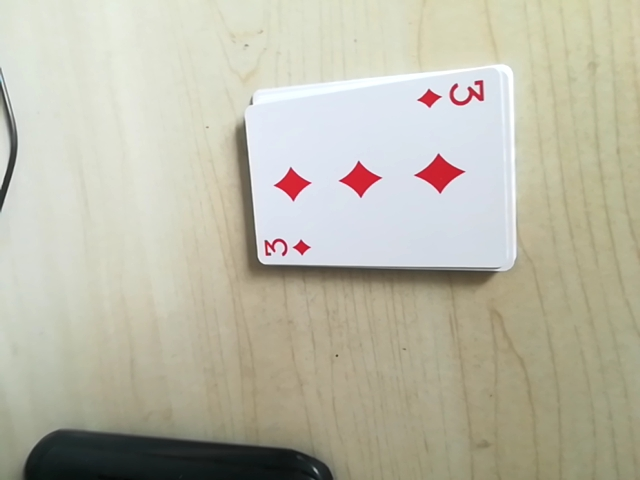fk 3: (418, 74, 492, 116), (257, 233, 313, 260)
